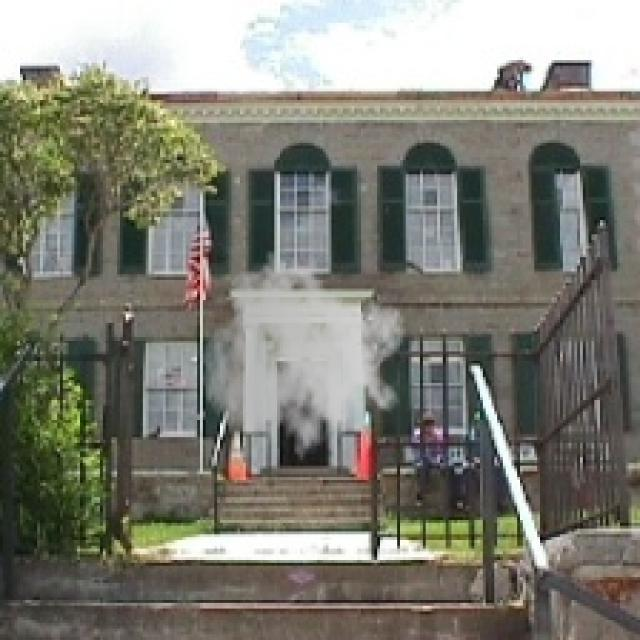Smoke: (200, 248, 409, 474)
